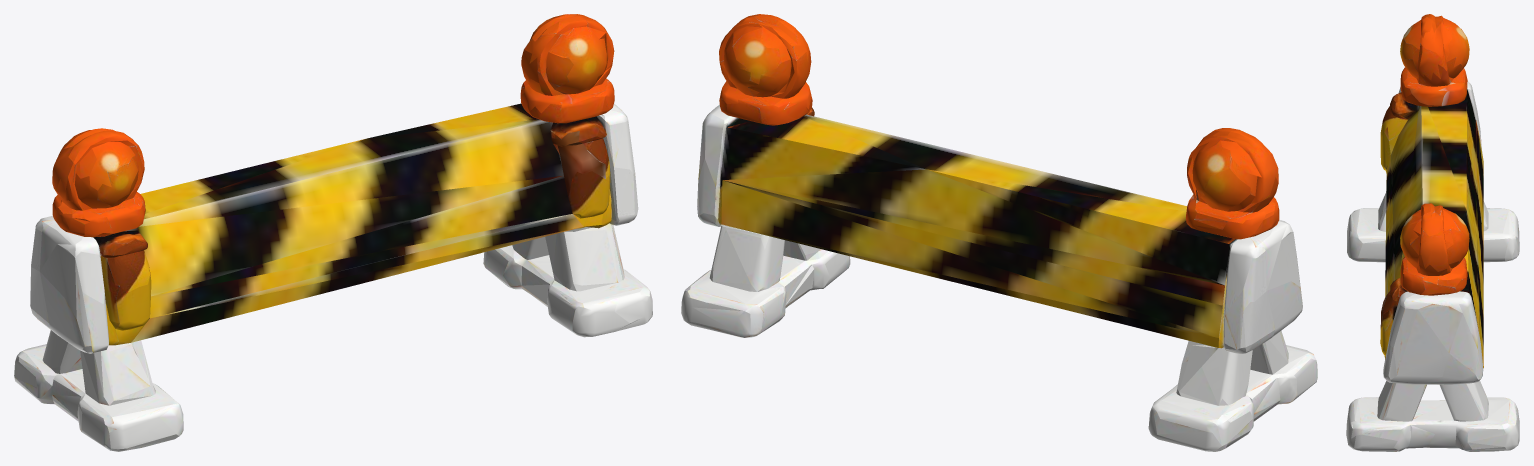
File: by-vejarbejde.glb
3 views of the same model, side by side, from view 1: azimuth 30°, elevation 25°; view 2: azimuth 150°, elevation 25°; view 3: azimuth 270°, elevation 25° (orthographic). The views are drawn at different scales.
Bounding box in the file's own units: 1.9 × 0.9027 × 0.6145.
Materials: 1 (1 with a texture image).
